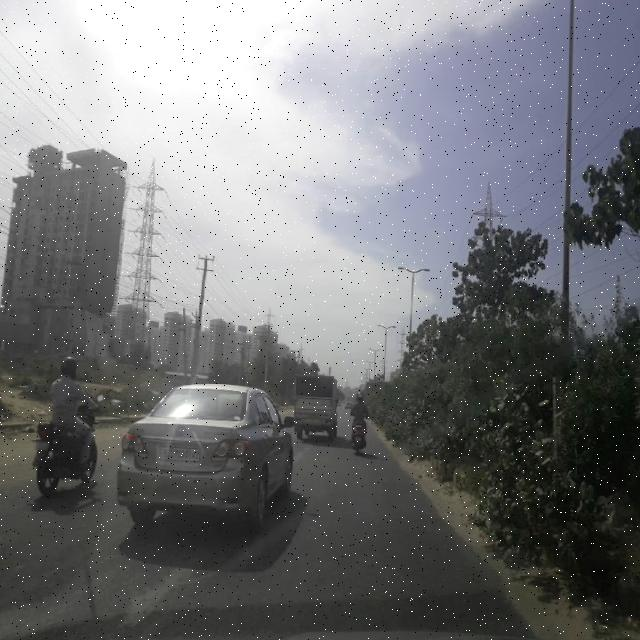D20: (277, 486, 505, 627)
